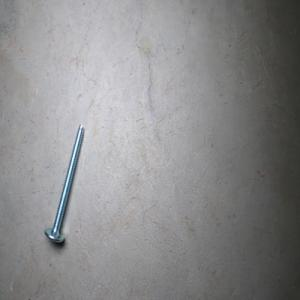Bolt: (43, 123, 84, 244)
